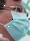with_mask: (1, 2, 30, 41)
